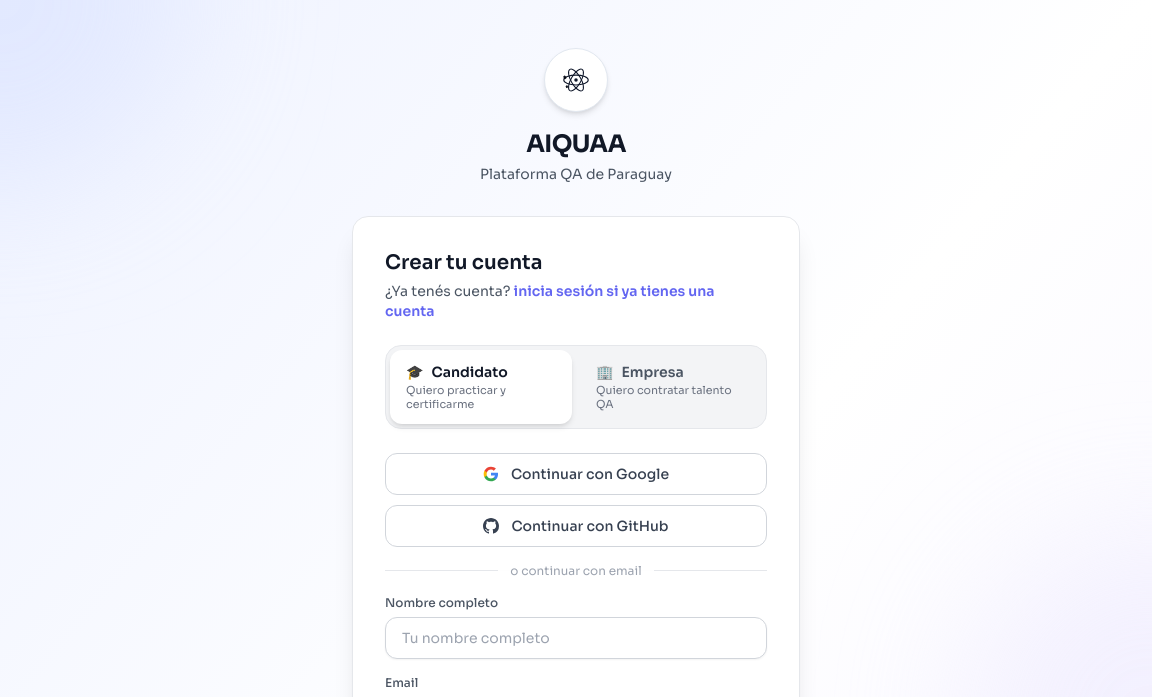
Test case: RegisterForm › Form Validation › muestra error si el nombre es muy corto
The image size is (1152, 697).
Type "A" into the field labelled "Nombre completo" at (576, 638), box [385,616,767,658]
(page scrolled)
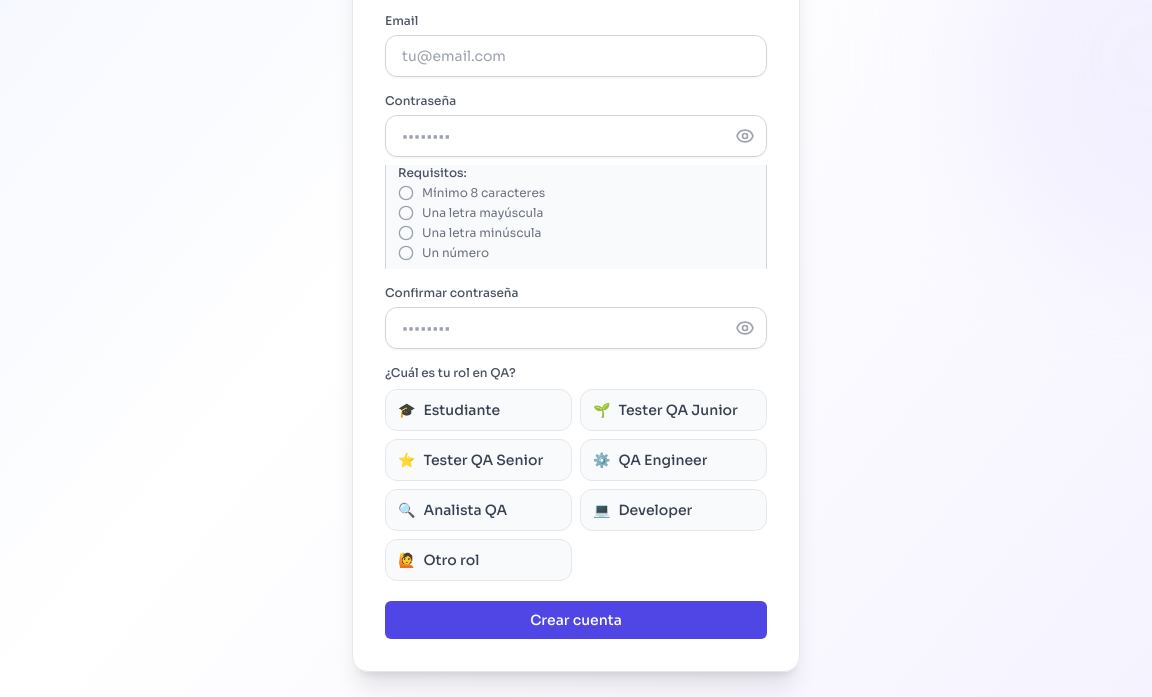
Click the button "Crear cuenta" at (576, 620), box [385,600,767,638]
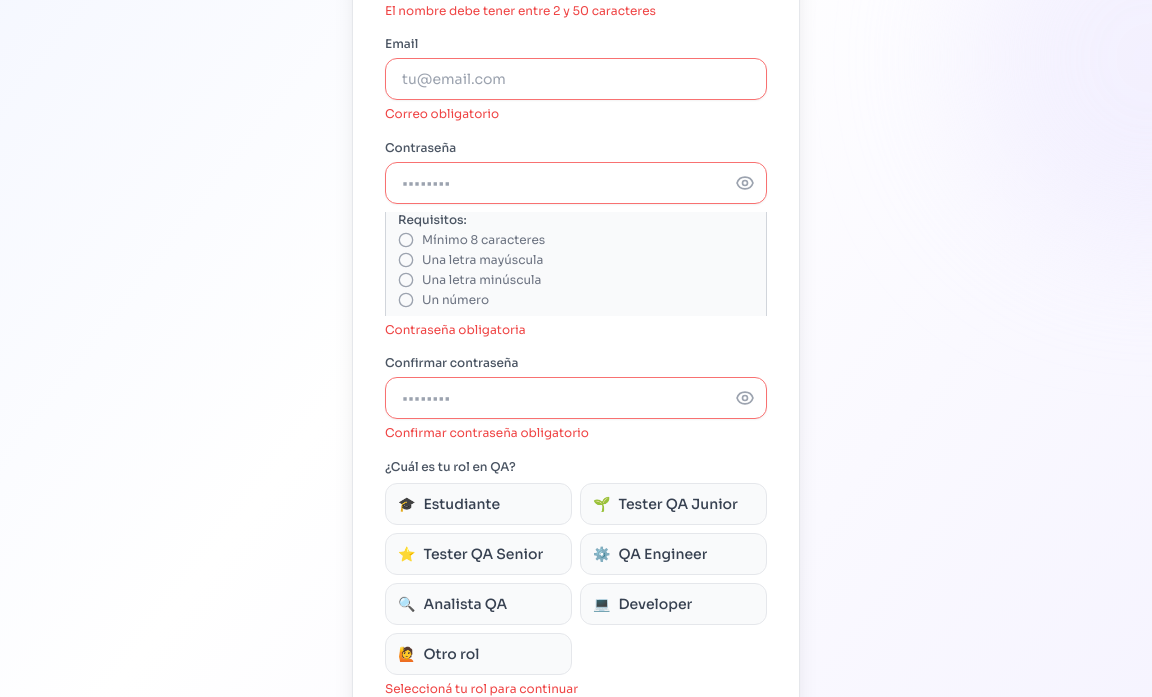
Result: the text "El nombre debe tener entre 2 y 50 caracteres" is shown at [385,2,656,18]
